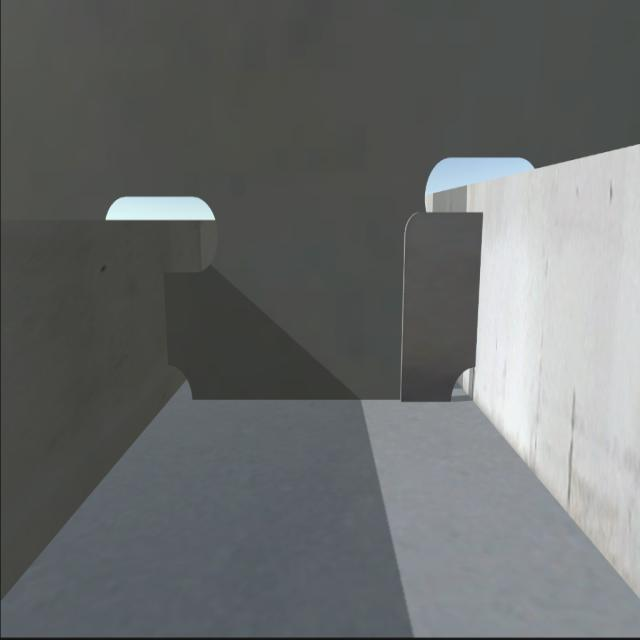fillet_hole: (444, 363, 478, 404), (167, 361, 194, 401)
fillet_yong_jeop_jang: (189, 388, 452, 407)
longi_yong_jeop_jang: (468, 208, 493, 368), (163, 276, 175, 368)
plate_CP05: (402, 208, 478, 396)
